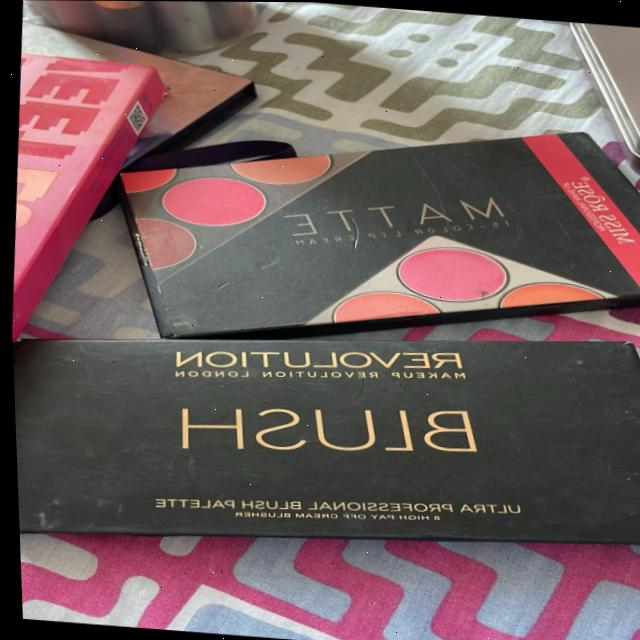makeup: (8, 271, 640, 594), (75, 68, 640, 384), (1, 40, 162, 398)
